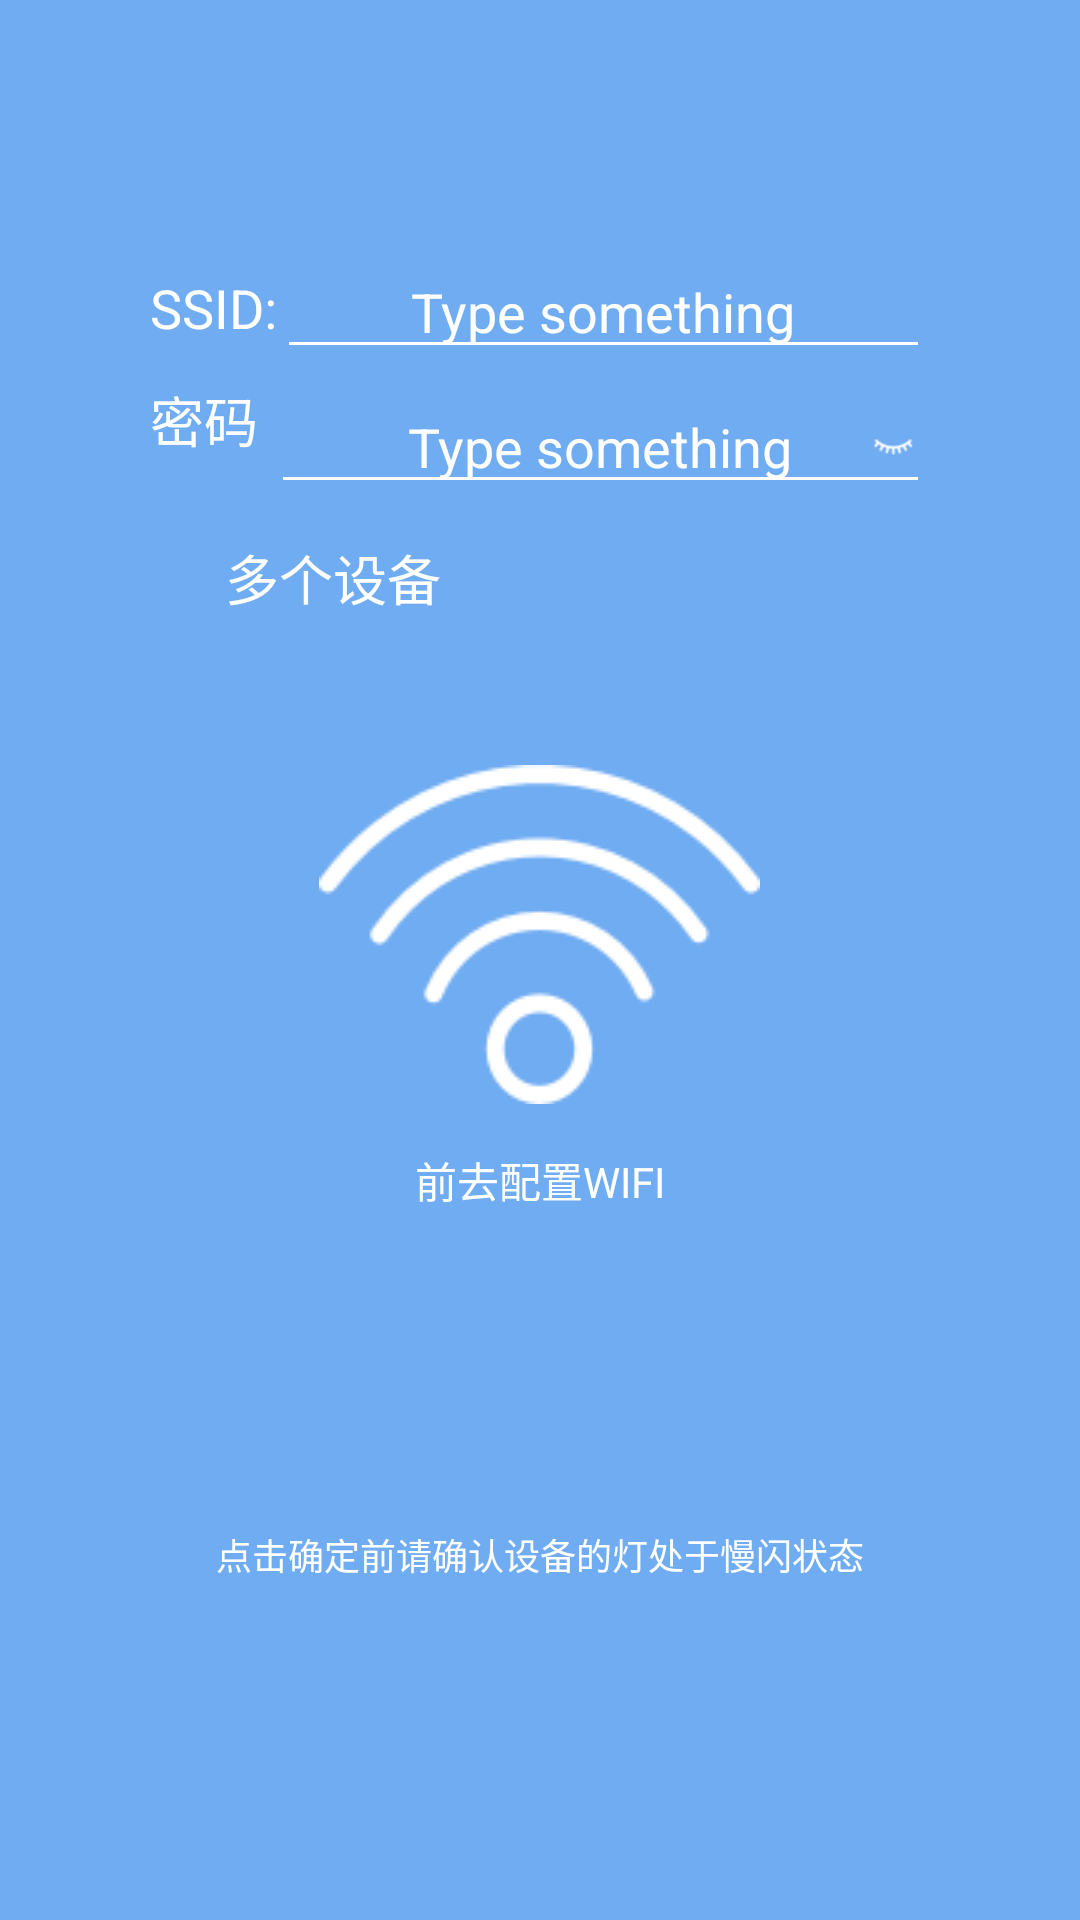

Icon bounding boxes for this 1080x1920 phone screenshot, format bbox=[x1, y1, x2, y2]:
eye: bbox=[874, 439, 912, 455]
